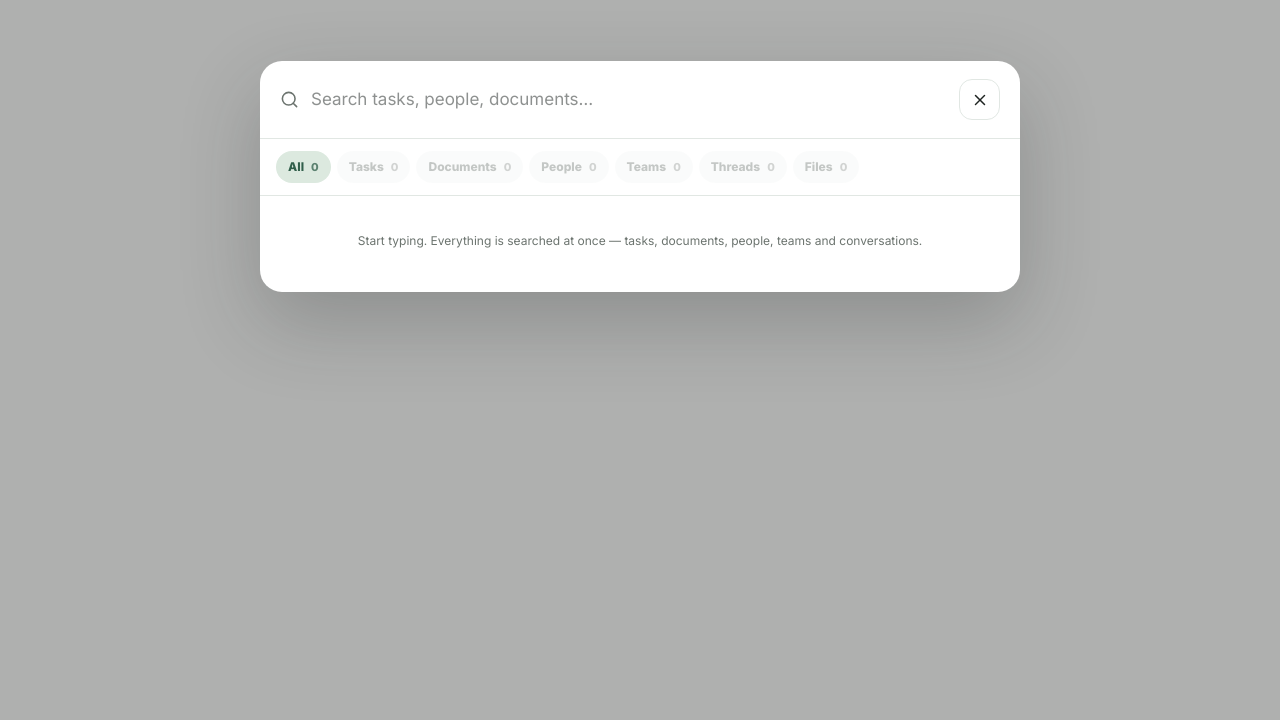
SearchOverlay › sorts a hit into the right category and says where it lives
Type "passport" into the field named "Search jarins".
click(629, 100); type("passport")  # box [311,87,947,112]
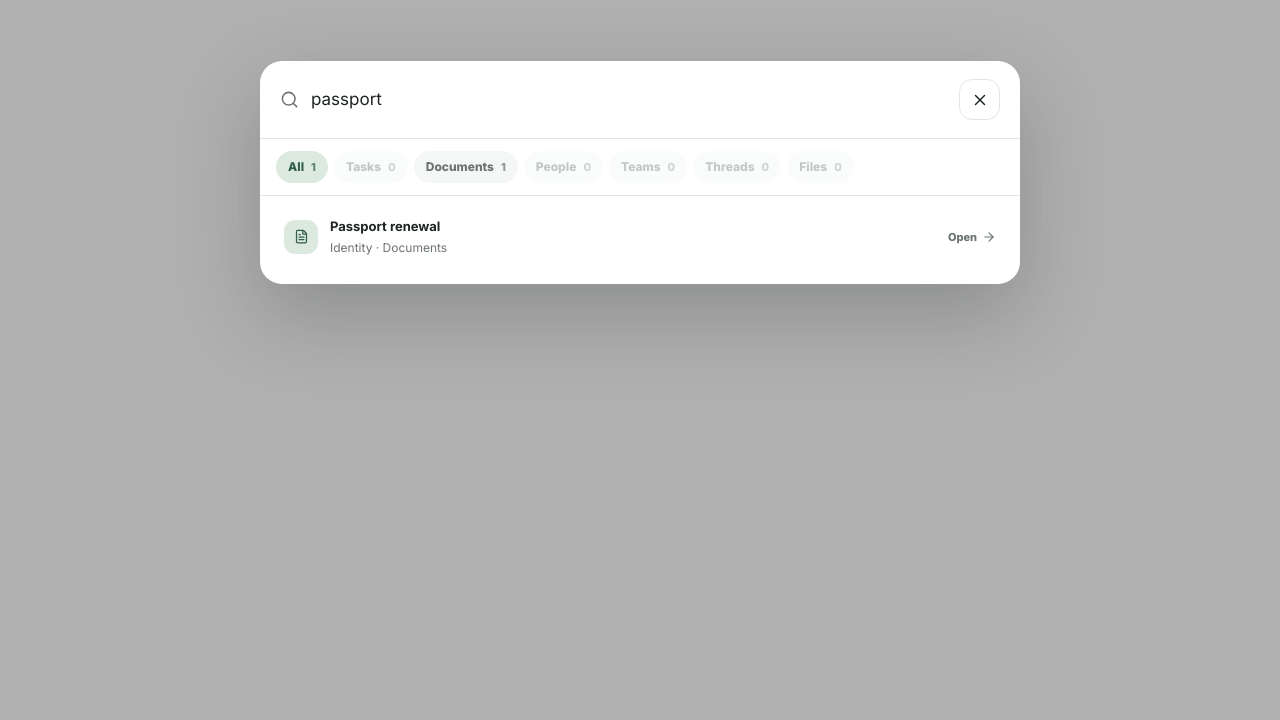
Expected: the text "Passport renewal" is shown, [330,218,440,234]
Expected: the text "Identity · Documents" is shown, [330,240,447,255]
Expected: the button "Documents 1" is shown, [414,151,518,183]
